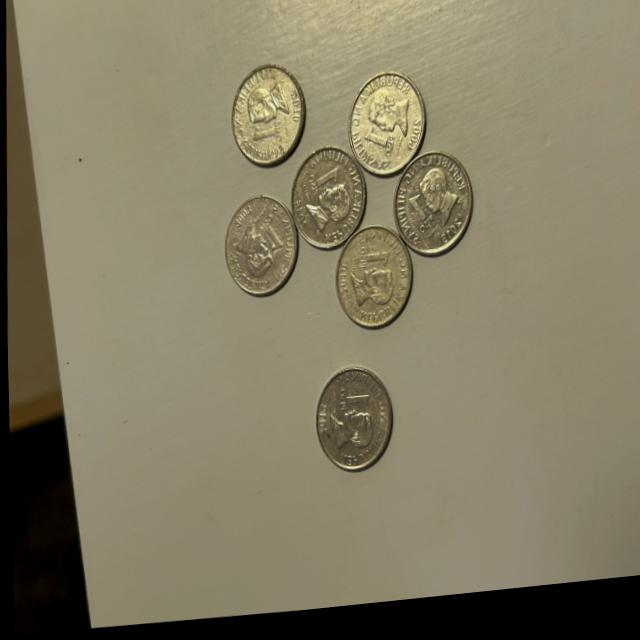1_Old_Front: (332, 387, 375, 423), (404, 198, 436, 246), (361, 127, 397, 169), (254, 215, 286, 262), (352, 247, 396, 280), (247, 121, 286, 154), (305, 171, 339, 202)
